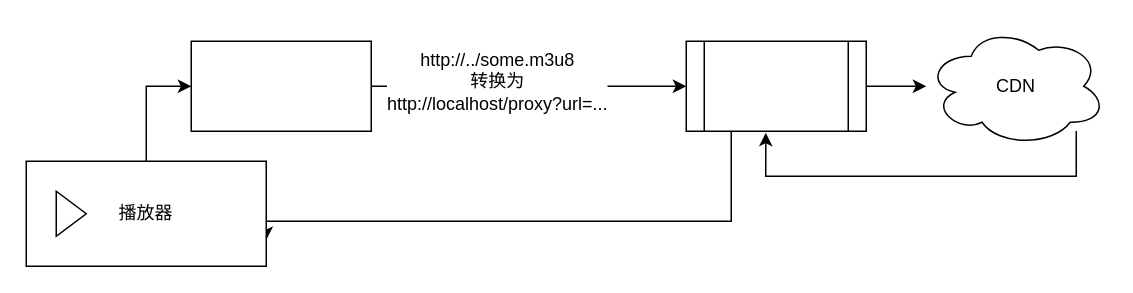
The diagram is 1133 pixels wide and 293 high, and some of its shapes have lost their labels. Here are the shapes that lost their labels. From the top down, the centre of each, then its label:
At point (280, 85): "请求m3u8".
At point (775, 85): "localhost server".
